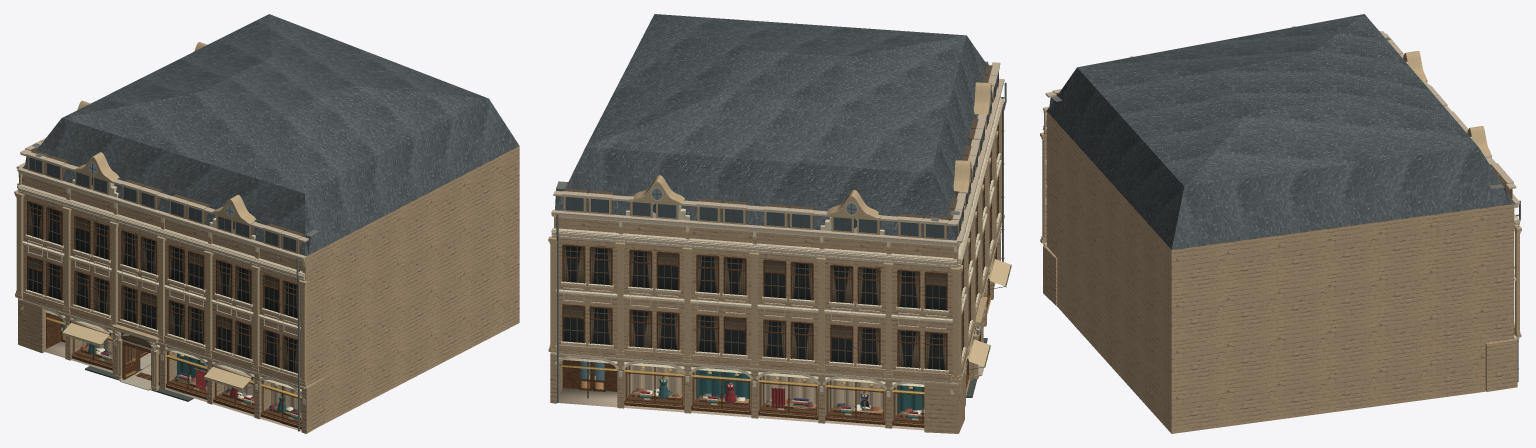
The picture shows the model from 3 angles, left to right: view 1: azimuth 30°, elevation 25°; view 2: azimuth 150°, elevation 25°; view 3: azimuth 270°, elevation 25°; orthographic projection. The views are drawn at different scales.
Visible parts, largest first — view 1: SG_Bestand_Laden_Auslagen, SG_Platzfront_Detail, Baukörper · Terrazzo; view 2: SG_Bestand_Laden_Auslagen, SG_Seitenfront_Detail, SG_Platzfront_Detail; view 3: SG_Bestand_Laden_Auslagen, SG_Seitenfront_Detail, SG_Platzfront_Detail.
Part boxes in pixels (bbox=[...]): SG_Bestand_Laden_Auslagen: bbox=[18, 14, 519, 433]; SG_Platzfront_Detail: bbox=[15, 143, 318, 431]; Baukörper · Terrazzo: bbox=[120, 353, 151, 390]; SG_Bestand_Laden_Auslagen: bbox=[550, 14, 1001, 433]; SG_Seitenfront_Detail: bbox=[548, 175, 960, 426]; SG_Platzfront_Detail: bbox=[931, 61, 1011, 392]; SG_Bestand_Laden_Auslagen: bbox=[1043, 14, 1518, 433]; SG_Seitenfront_Detail: bbox=[1382, 31, 1521, 381]; SG_Platzfront_Detail: bbox=[1040, 26, 1390, 245].
Size of the model in its own units: 30.48 by 17.74 by 30.36.
Materials: 69 (21 with a texture image).
